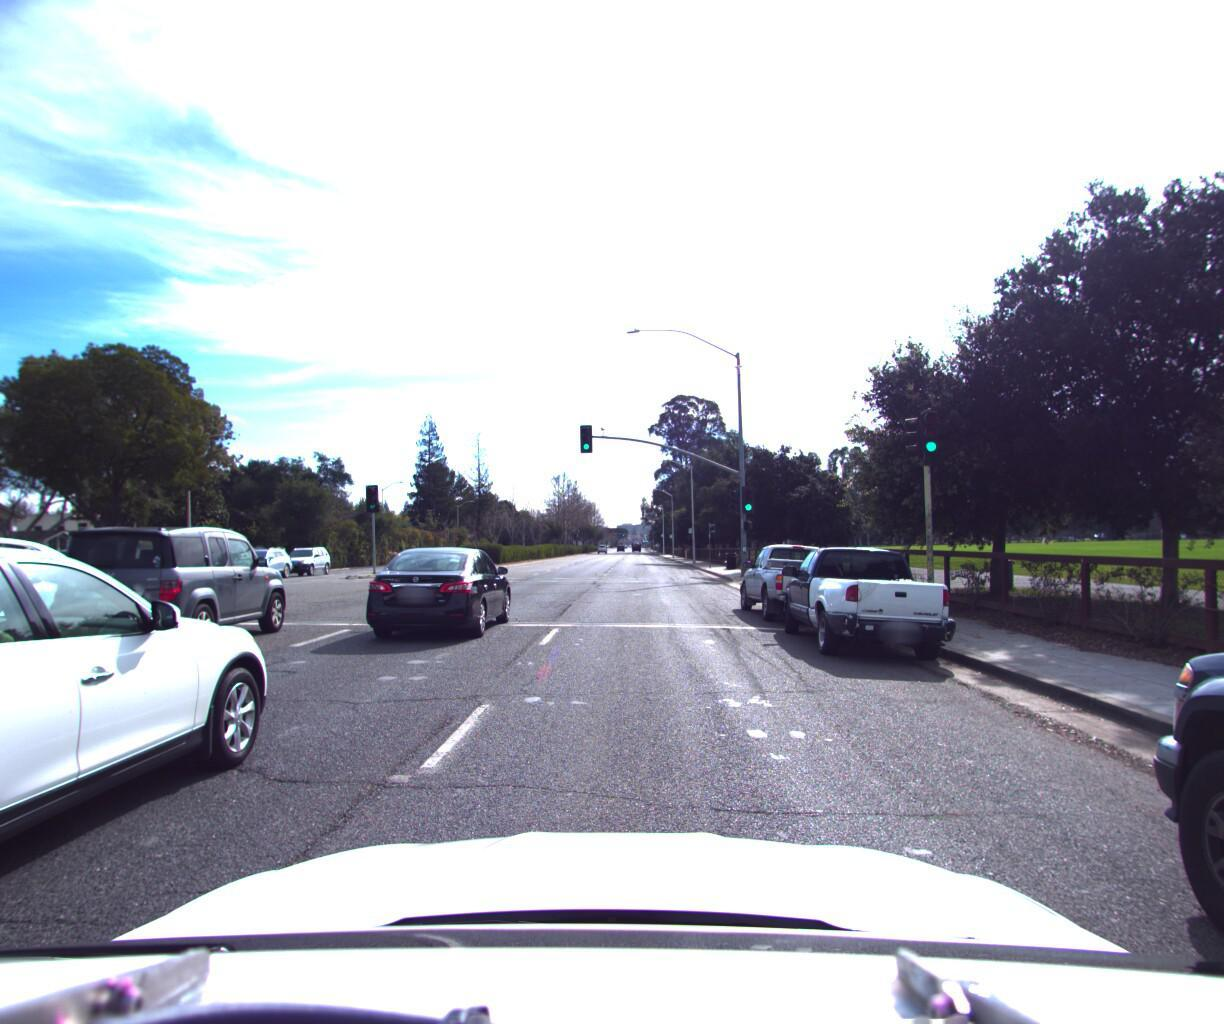car: (0, 516, 291, 1024), (50, 524, 296, 659), (778, 534, 971, 661), (0, 537, 69, 811), (356, 537, 516, 642), (737, 534, 869, 620), (0, 539, 61, 664), (218, 540, 300, 579), (274, 540, 338, 573)
truck: (29, 528, 179, 585)
